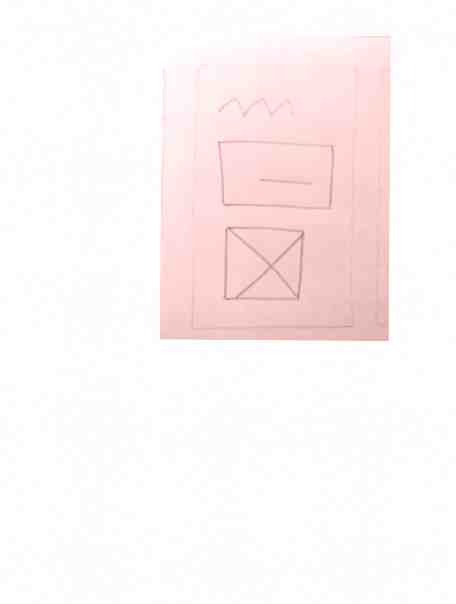button: (212, 135, 339, 215)
image: (215, 222, 311, 309)
text: (211, 89, 300, 125)
